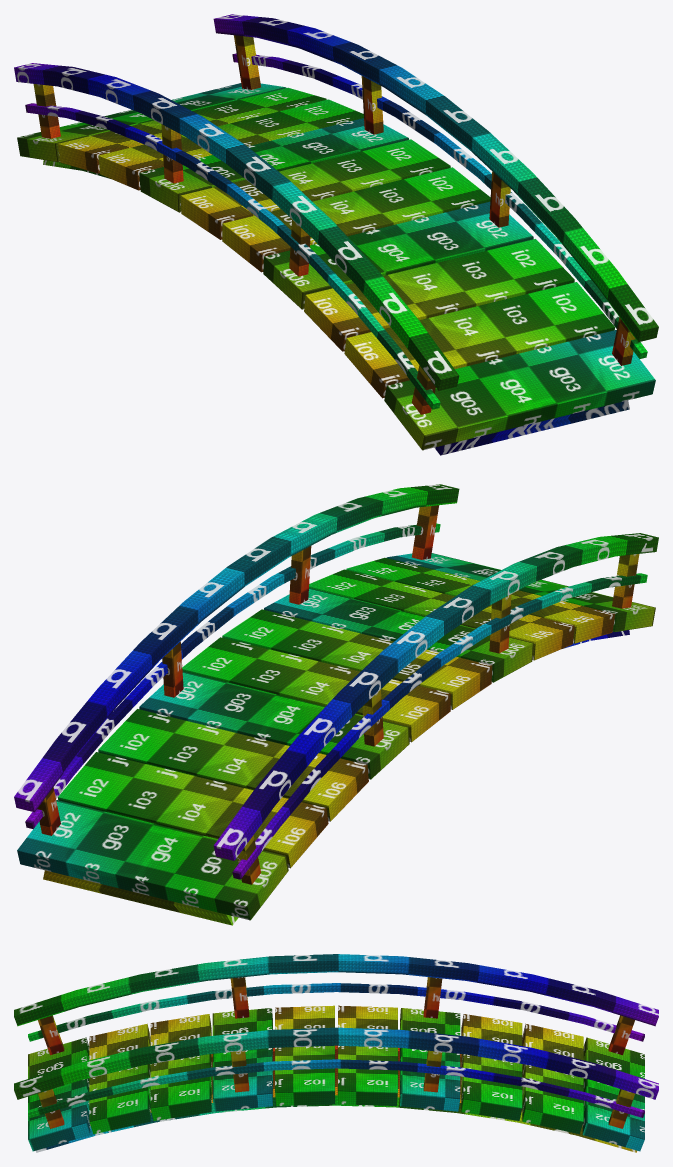
File: Bridge.FBX
3 views of the same model, one above another, from view 1: azimuth 30°, elevation 25°; view 2: azimuth 150°, elevation 25°; view 3: azimuth 270°, elevation 25° (orthographic). The views are drawn at different scales.
Parts seen in each view (by area): view 1: Bridge; view 2: Bridge; view 3: Bridge.
Part boxes in pixels (x1=…): Bridge: x1=14, y1=14, x2=658, y2=455; Bridge: x1=14, y1=484, x2=658, y2=925; Bridge: x1=14, y1=954, x2=658, y2=1152.
Bounding box in the file's own units: 18.08 × 12.29 × 58.04.
